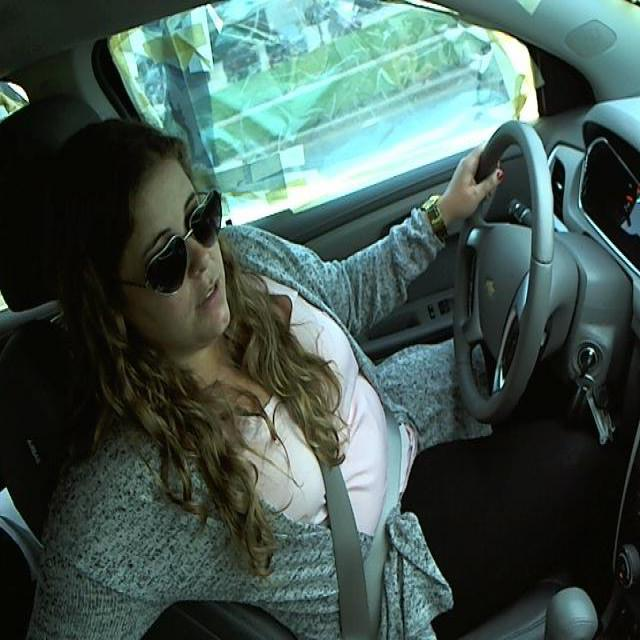seatbelt: (243, 297, 403, 628)
